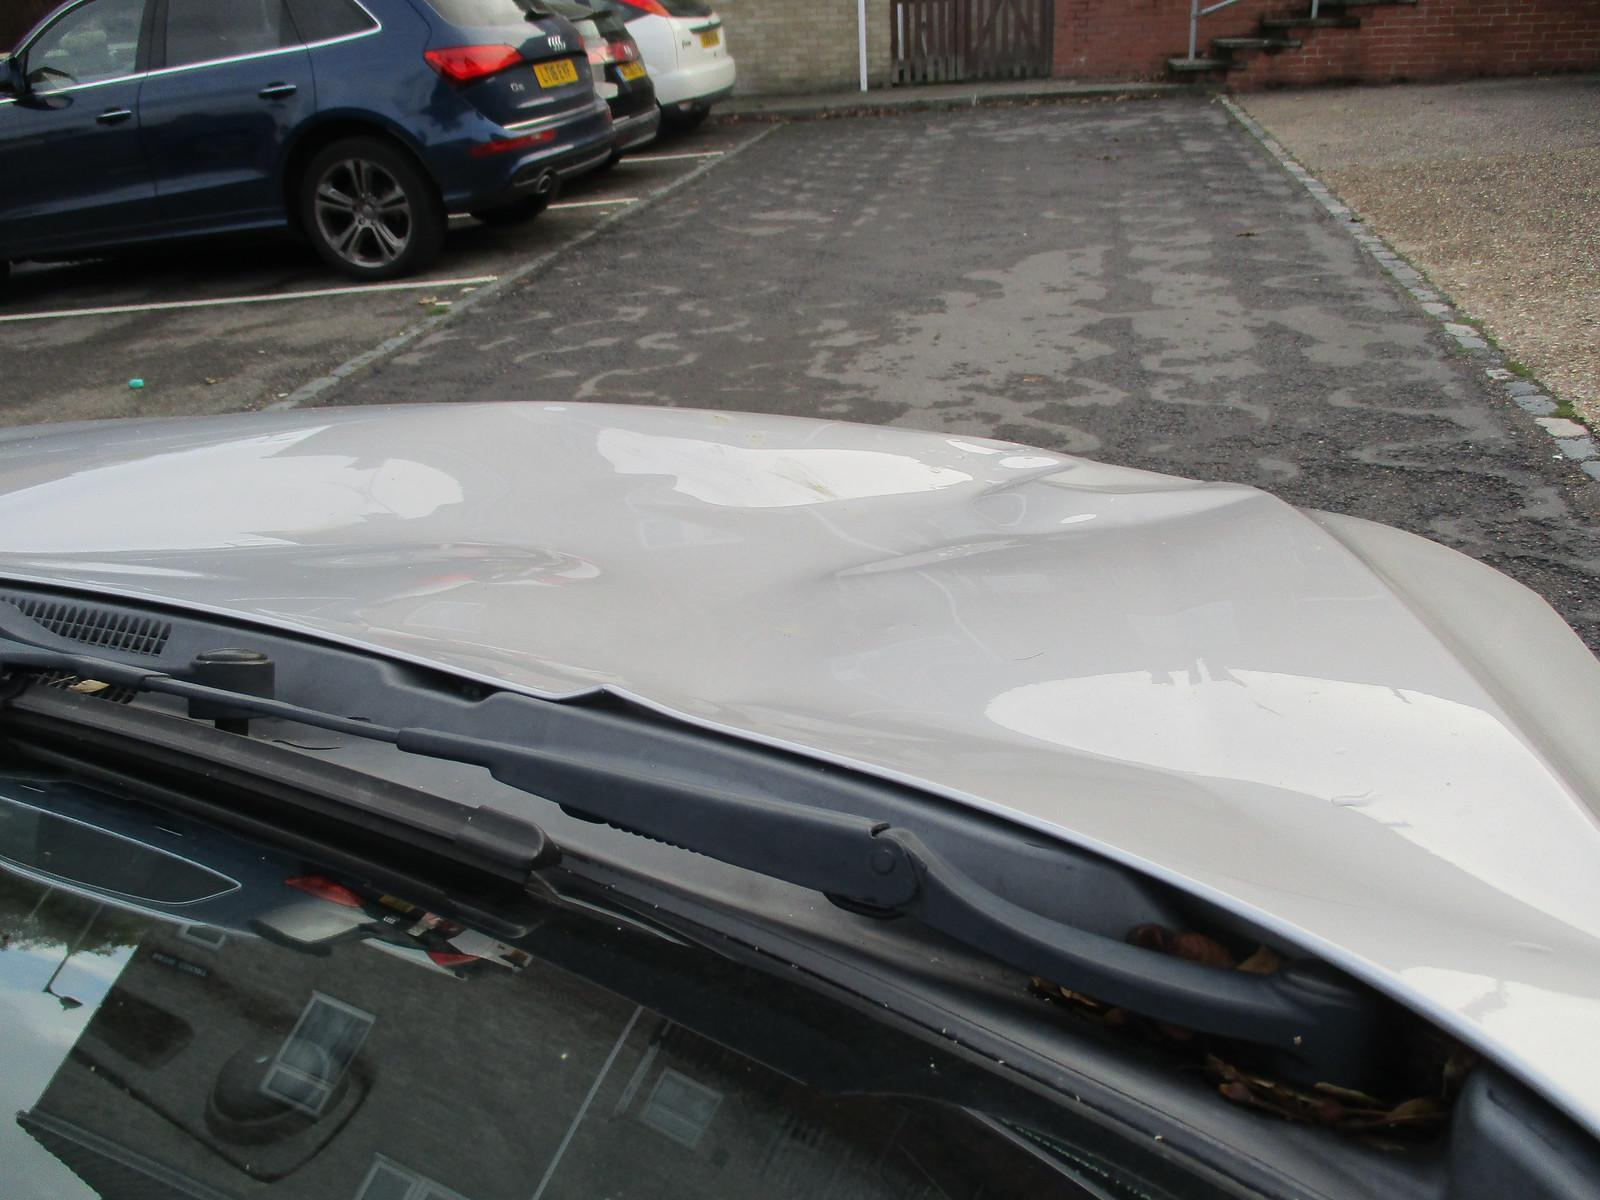bonnet-dent: (58, 347, 1577, 853)
